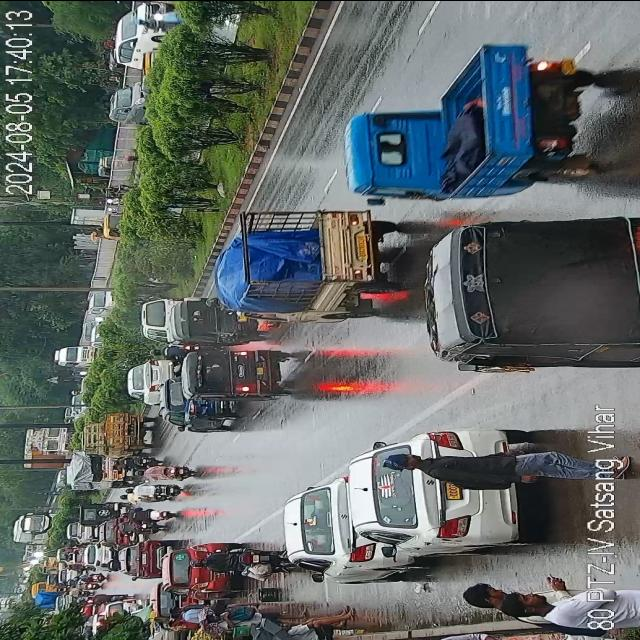2-wheelers: (168, 396, 232, 434), (194, 545, 262, 577), (121, 483, 181, 504), (135, 464, 197, 479), (70, 574, 105, 596), (112, 509, 182, 519), (111, 523, 158, 535), (110, 458, 162, 466), (90, 592, 130, 600), (62, 562, 84, 570), (102, 560, 116, 568)
auto: (328, 54, 598, 194), (424, 220, 640, 376), (183, 344, 290, 401), (171, 301, 273, 347), (140, 296, 172, 338)
bus: (12, 512, 48, 542)
car: (347, 439, 451, 562), (281, 484, 389, 576), (114, 8, 164, 66), (148, 569, 232, 602), (126, 352, 170, 397), (118, 540, 160, 578), (105, 88, 144, 117), (84, 539, 112, 569), (101, 520, 135, 544), (78, 502, 119, 520), (106, 600, 146, 614), (67, 523, 95, 542), (60, 550, 84, 562)
pedestrian: (413, 590, 640, 640), (367, 447, 623, 478), (166, 600, 256, 624), (277, 611, 345, 640), (209, 608, 305, 624)
truck: (212, 200, 398, 314), (82, 405, 154, 457), (24, 426, 76, 468), (68, 456, 124, 491)
